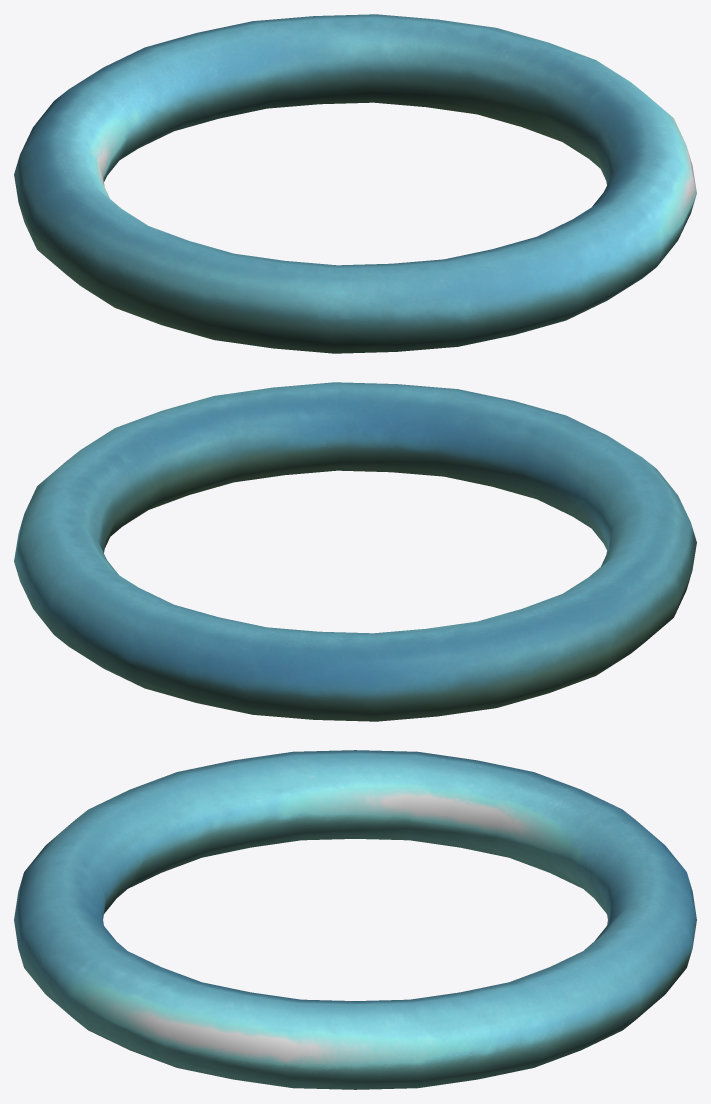
Rendered from Skyblue_Ring.fbx.
3 views of the same model, one above another, from view 1: azimuth 30°, elevation 25°; view 2: azimuth 150°, elevation 25°; view 3: azimuth 270°, elevation 25° (orthographic).
Parts seen in each view (by area): view 1: Torus001; view 2: Torus001; view 3: Torus001.
Boxes of the visible parts, x1,y1,x2,y2 form: Torus001: (14, 14, 696, 353); Torus001: (14, 382, 696, 721); Torus001: (14, 750, 696, 1089).
Bounding box in the file's own units: 23 × 3 × 23.
1 material, 1 textured.
